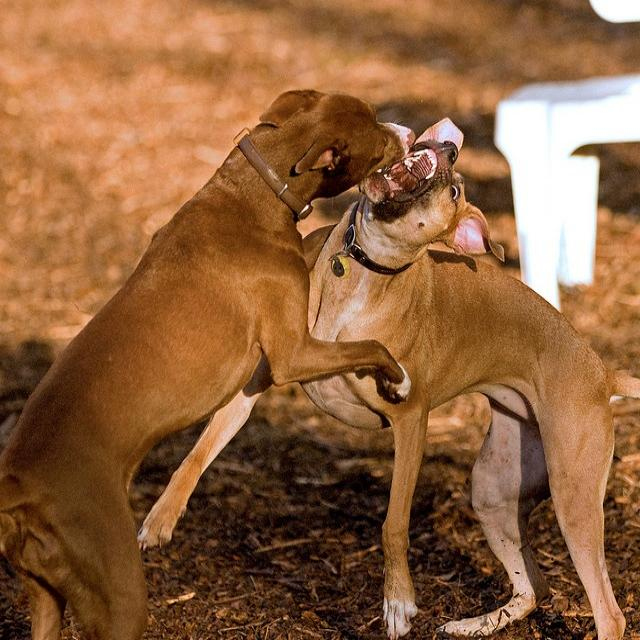dog: (140, 113, 638, 632), (0, 89, 417, 632)
